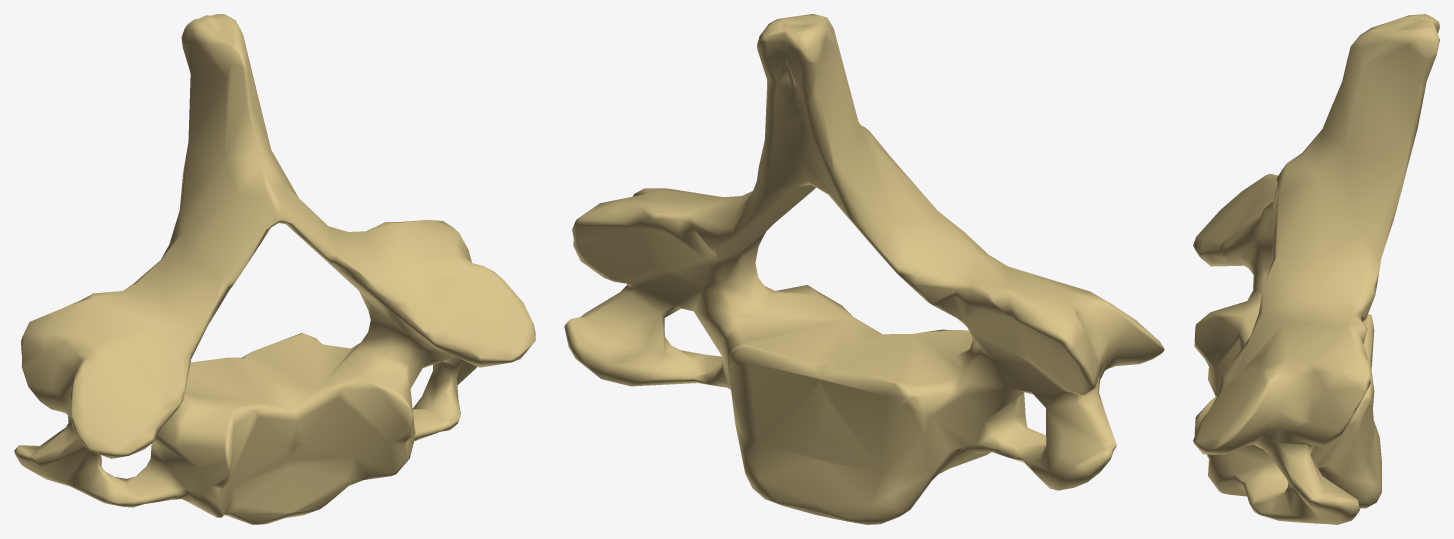
3 renders of one model, left to right at view 1: azimuth 30°, elevation 25°; view 2: azimuth 150°, elevation 25°; view 3: azimuth 270°, elevation 25°, orthographic. The views are drawn at different scales.
Parts seen in each view (by area): view 1: 第四颈椎; view 2: 第四颈椎; view 3: 第四颈椎.
Part boxes in pixels (box(x1,y1,x2,y2)): 第四颈椎: box(14, 14, 535, 524); 第四颈椎: box(564, 14, 1164, 524); 第四颈椎: box(1193, 14, 1439, 524).
Size of the model in its own units: 0.0854 by 0.0771 by 0.0369.
